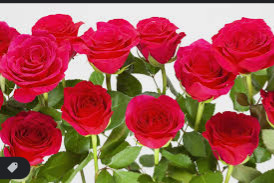RedRose: (0, 34, 69, 102), (210, 16, 273, 72), (174, 41, 235, 98), (125, 93, 184, 150), (79, 19, 139, 75), (1, 113, 62, 167), (204, 108, 259, 166), (29, 13, 83, 68), (61, 83, 114, 138), (134, 17, 186, 67)
